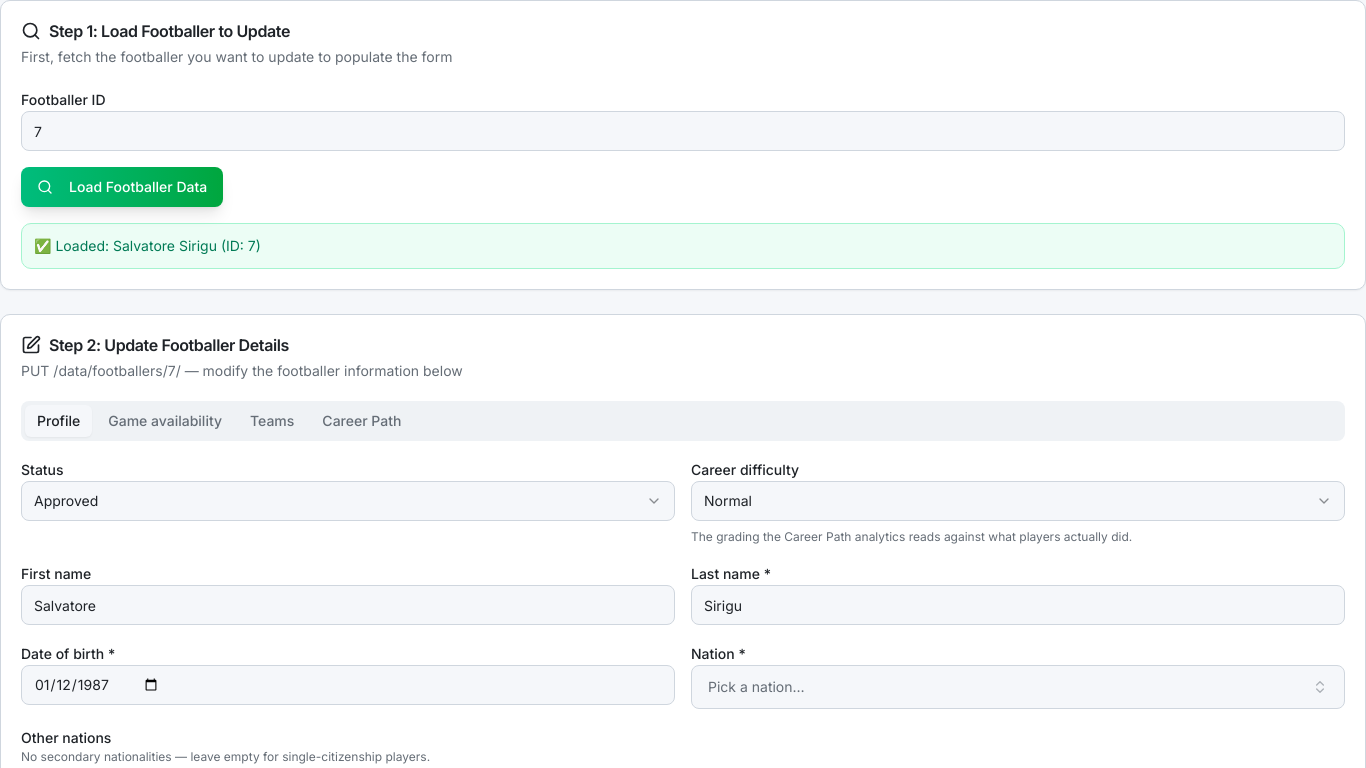
Test case: updateFootballer › puts the related editors in the same tab row as the form
The image size is (1366, 768).
Expected: the tab "Teams" is shown, x1=238 y1=405 x2=306 y2=437
Press the mouse on the tab "Career Path" at [362, 421], box x1=310 y1=405 x2=413 y2=437
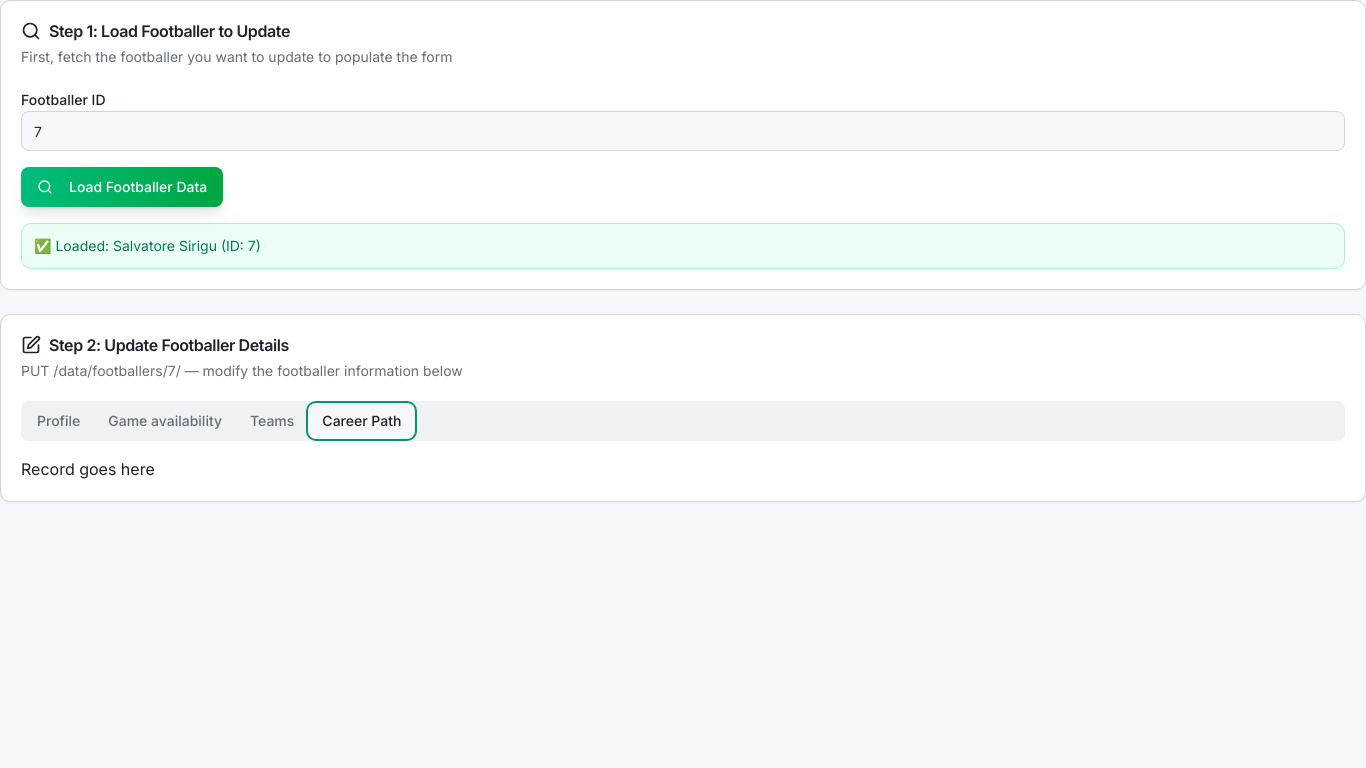
Expected: the text "Record goes here" is shown, x1=21 y1=459 x2=155 y2=479
